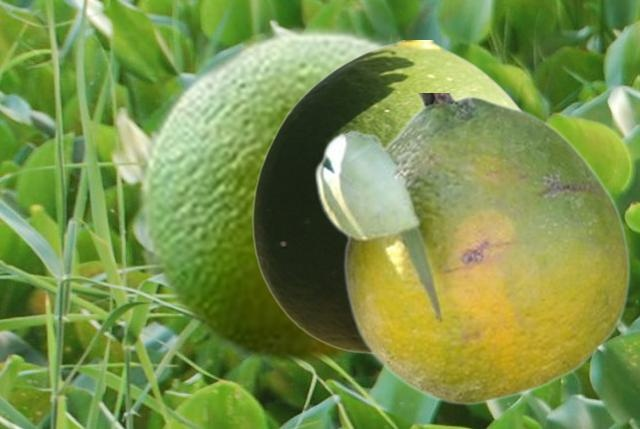dalandan: (313, 93, 630, 404), (133, 20, 398, 365), (251, 40, 522, 354)
